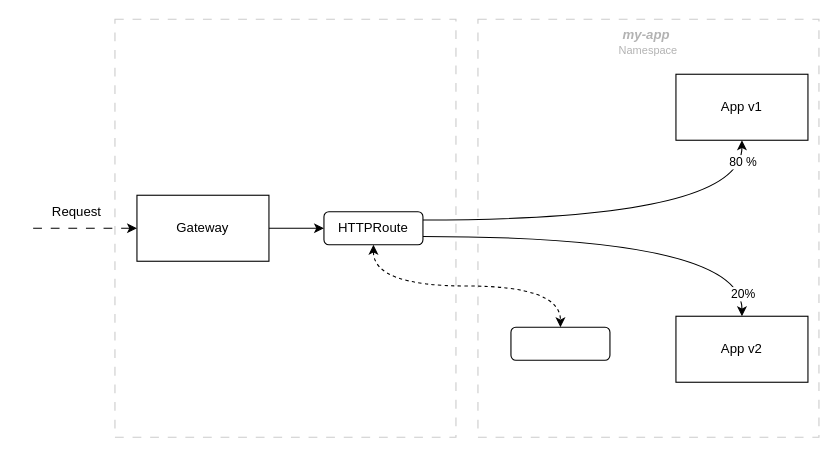
The diagram is 838 pixels wide and 457 high, and some of its shapes have lost their labels. The box of each missing label's shape, as (x1, y1, x2, y2) in pixels:
default Namespace: (114, 18, 456, 437)
ReferenceGrant: (510, 326, 610, 360)
